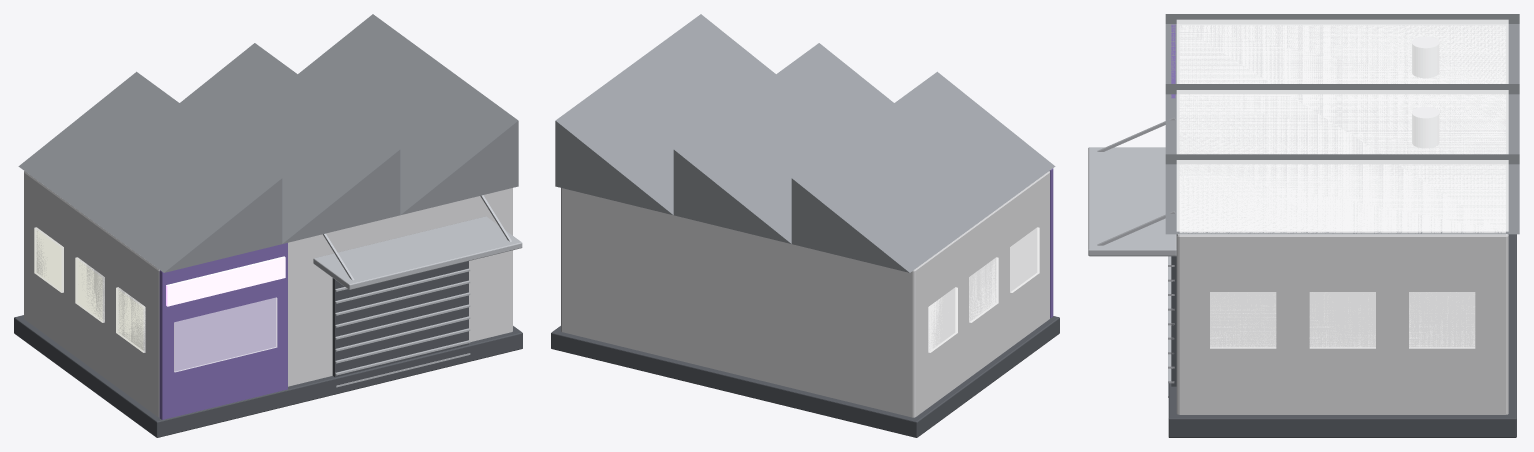
Rendered from workshop.glb.
The picture shows the model from 3 angles, left to right: view 1: azimuth 30°, elevation 25°; view 2: azimuth 150°, elevation 25°; view 3: azimuth 270°, elevation 25°; orthographic projection. The views are drawn at different scales.
Visible parts, largest first — view 1: Body, Tooth0, Tooth1, Tooth2, CladFront, Plinth.001, RollerDoor, Canopy.001, FrontWindow, Sign, SideWin-12, SideWin-11 (+8 smaller); view 2: Body, Tooth0, Tooth1, Tooth2, Plinth.001, SideWin-10, SideWin-11, SideWin-12, CladFront; view 3: Body, Clerestory2, Clerestory0, Clerestory1, Plinth.001, Tooth0, Tooth1, Canopy.001, Tooth2, SideWin10, SideWin11, SideWin12 (+3 smaller).
Boxes of the visible parts, <box> form: Body: <box>24,171,512,417</box>; Tooth0: <box>18,71,282,272</box>; Tooth1: <box>180,43,400,243</box>; Tooth2: <box>298,14,518,215</box>; CladFront: <box>159,243,287,419</box>; Plinth.001: <box>14,315,522,437</box>; RollerDoor: <box>332,261,468,377</box>; Canopy.001: <box>313,216,522,289</box>; FrontWindow: <box>174,297,277,372</box>; Sign: <box>166,256,285,306</box>; SideWin-12: <box>34,227,63,292</box>; SideWin-11: <box>75,257,104,322</box>; Body: <box>561,171,1049,417</box>; Tooth0: <box>791,71,1055,272</box>; Tooth1: <box>673,43,893,243</box>; Tooth2: <box>555,14,775,215</box>; Plinth.001: <box>551,316,1059,437</box>; SideWin-10: <box>1010,227,1039,292</box>; SideWin-11: <box>969,257,998,322</box>; SideWin-12: <box>928,287,957,352</box>; CladFront: <box>1050,168,1053,317</box>; Body: <box>1176,25,1508,414</box>; Clerestory2: <box>1176,160,1508,231</box>; Clerestory0: <box>1176,19,1508,83</box>; Clerestory1: <box>1176,90,1508,154</box>; Plinth.001: <box>1168,234,1516,437</box>; Tooth0: <box>1165,14,1519,83</box>; Tooth1: <box>1165,84,1519,154</box>; Canopy.001: <box>1088,147,1176,256</box>; Tooth2: <box>1165,154,1519,234</box>; SideWin10: <box>1210,292,1276,348</box>; SideWin11: <box>1309,292,1375,348</box>; SideWin12: <box>1409,292,1475,348</box>.
Bounding box in the file's own units: 9.3 × 5.6 × 7.8.
